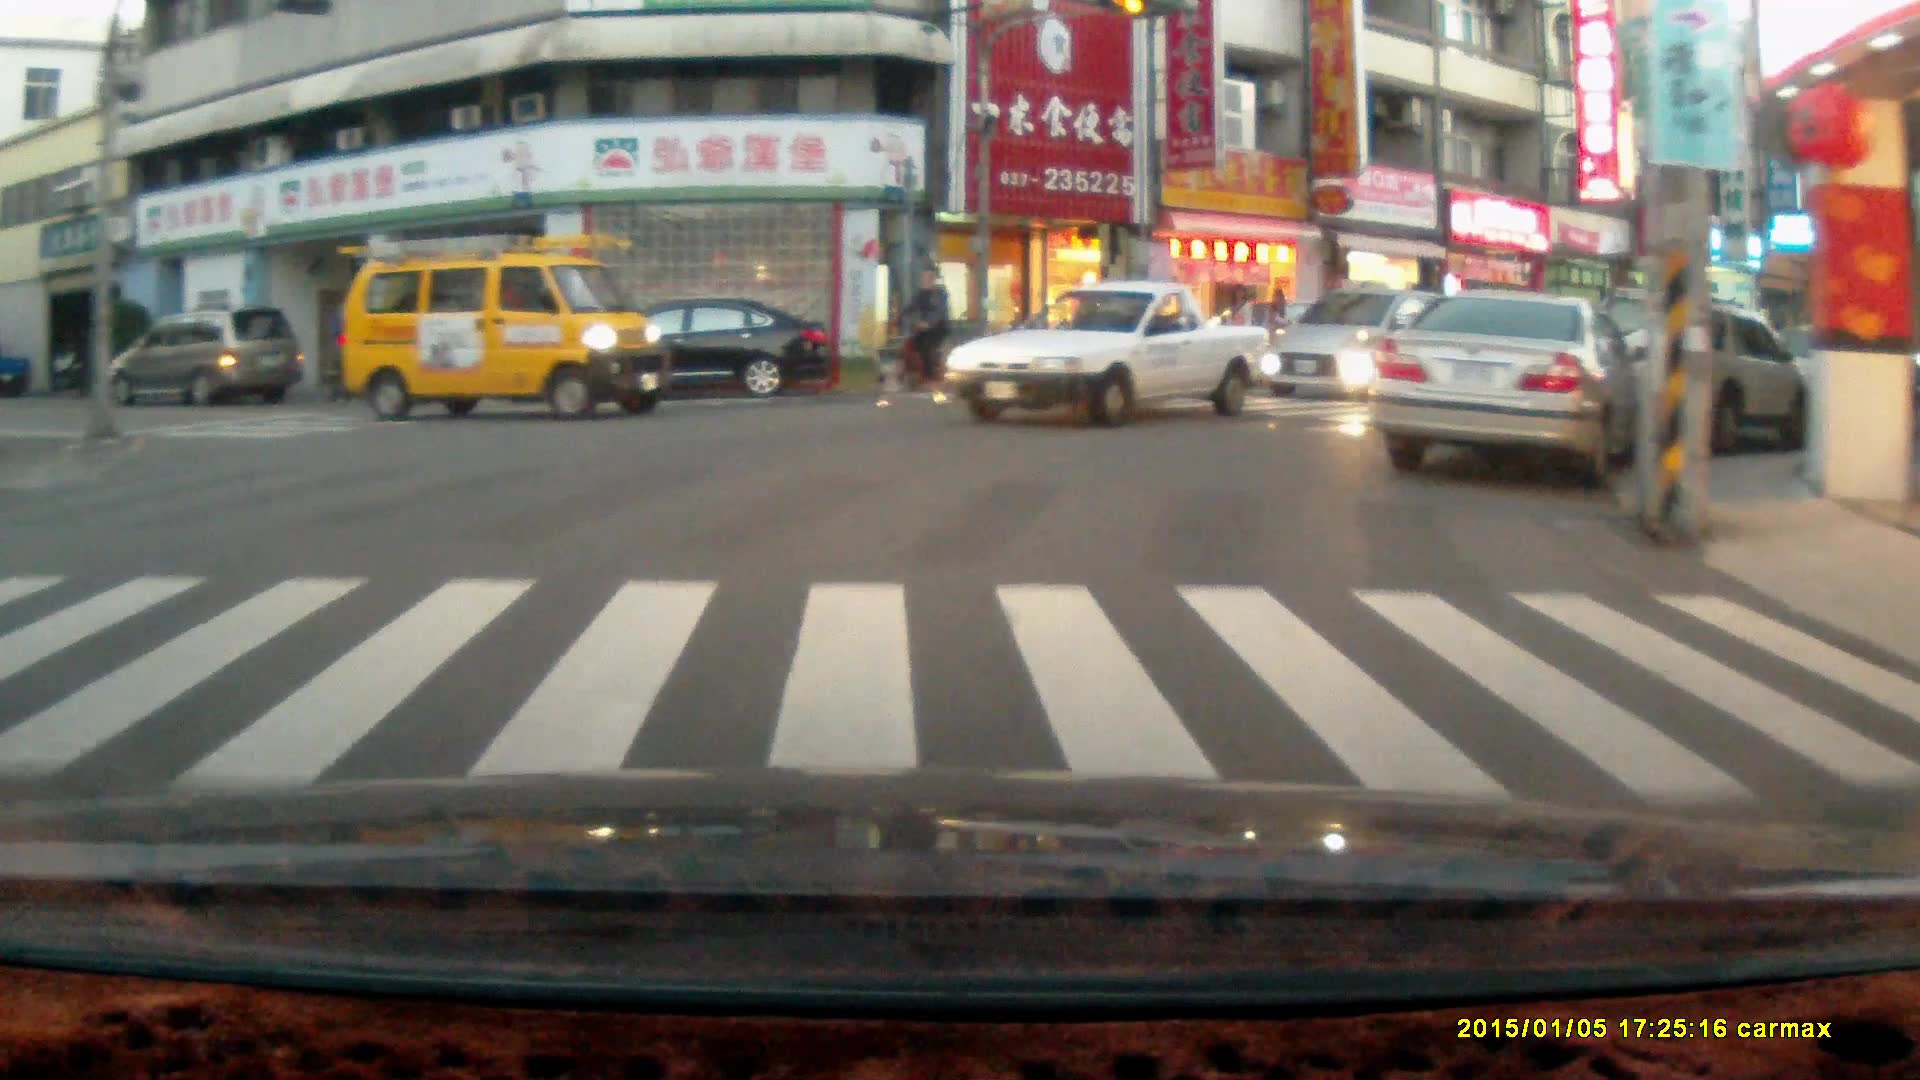pedestrian: (1222, 283, 1253, 375), (1264, 287, 1291, 381)
rider: (866, 261, 975, 408)
vehicle: (333, 230, 678, 424), (1371, 285, 1618, 491), (943, 278, 1279, 429), (1562, 290, 1823, 459), (562, 294, 831, 403), (1259, 283, 1457, 404), (101, 302, 311, 413)
